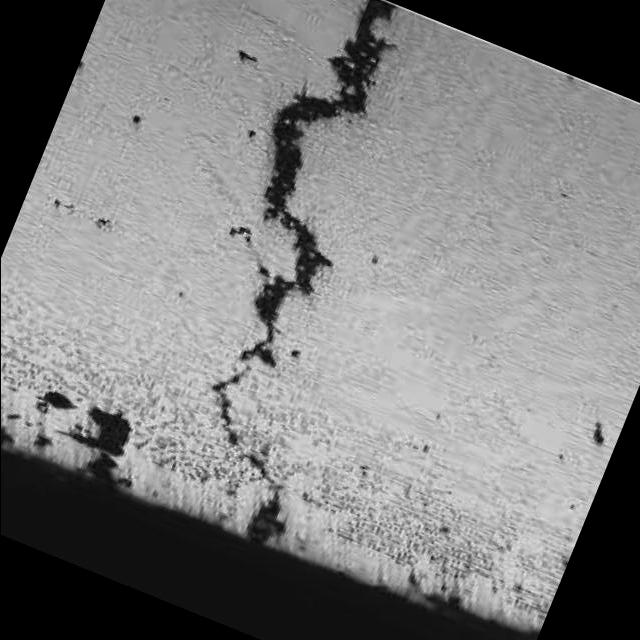defect: (204, 0, 412, 494)
